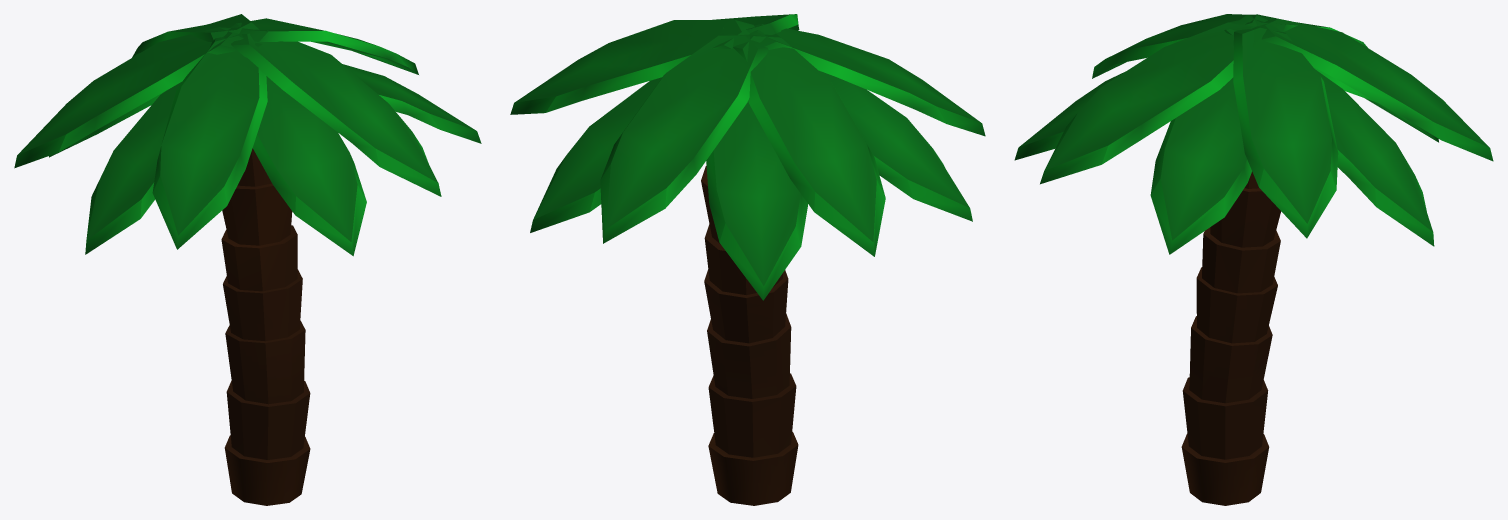
File: muuh.fbx
3 views of the same model, side by side, from view 1: azimuth 30°, elevation 25°; view 2: azimuth 150°, elevation 25°; view 3: azimuth 270°, elevation 25° (orthographic). The views are drawn at different scales.
Visible parts, largest first — view 1: MESH; view 2: MESH; view 3: MESH.
Part boxes in pixels (x1,y1,x2,y2): MESH: (14,14,481,505); MESH: (510,14,985,505); MESH: (1014,14,1493,505).
Size of the model in its own units: 17004 by 18971 by 17843.
